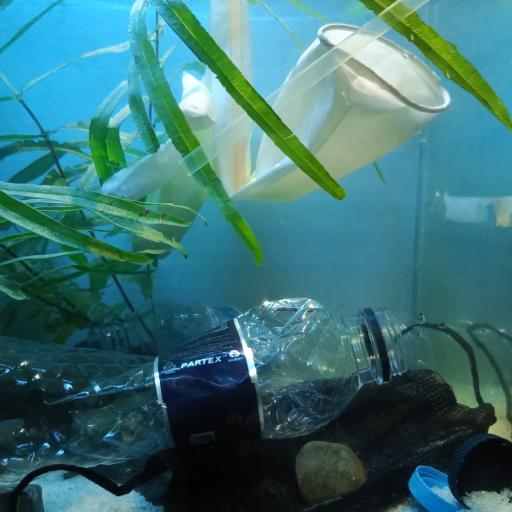bottle_cap: (447, 433, 512, 512), (409, 464, 463, 512)
glove: (94, 1, 452, 257)
mask: (0, 317, 504, 512)
plastic_bottle: (0, 297, 412, 467), (87, 304, 245, 356)
plastic_straw: (178, 0, 434, 175), (226, 2, 247, 190)
